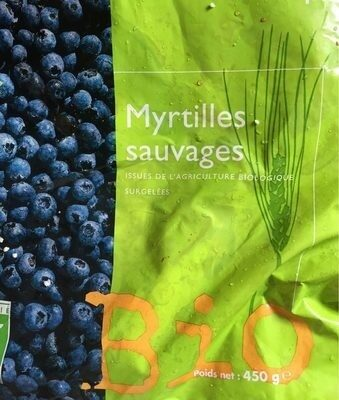Myrtilles sauvages bio: (17, 20, 322, 380)
